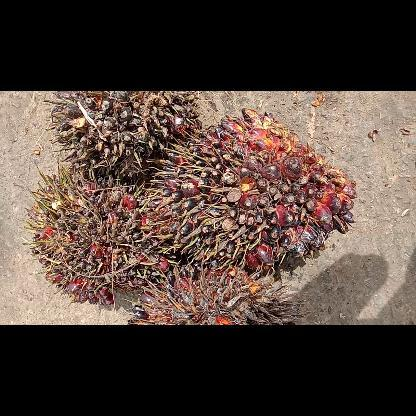TBS abnormal: (160, 106, 358, 274), (30, 172, 174, 296), (49, 91, 201, 181), (129, 276, 299, 324)
